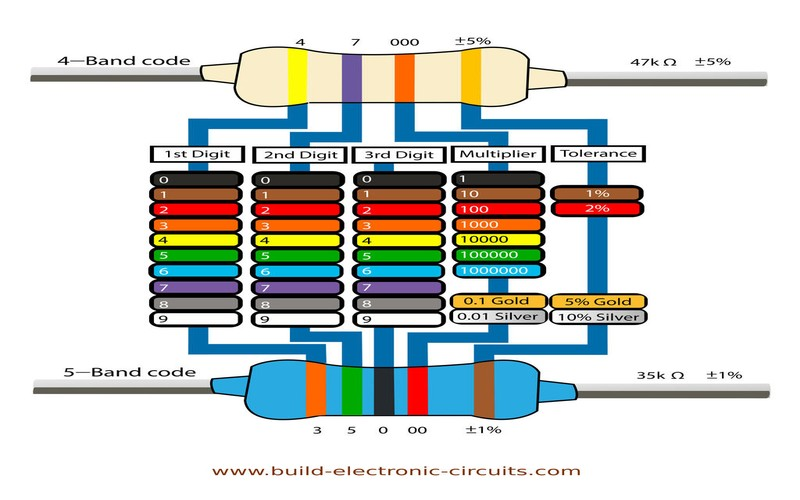Resistor: (189, 34, 589, 112), (199, 353, 590, 427)
